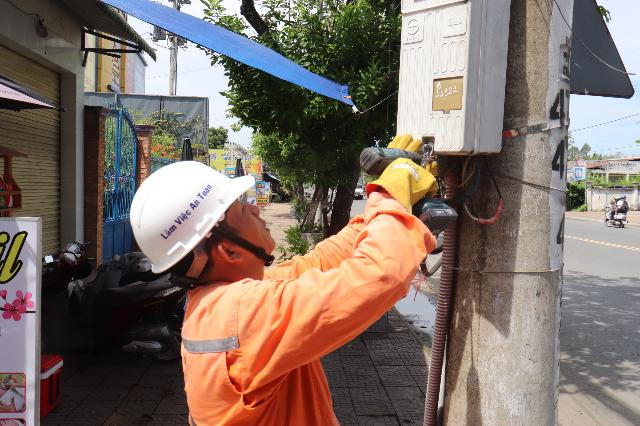gloves: (367, 149, 464, 215), (365, 131, 419, 164)
helmet: (121, 127, 233, 266)
